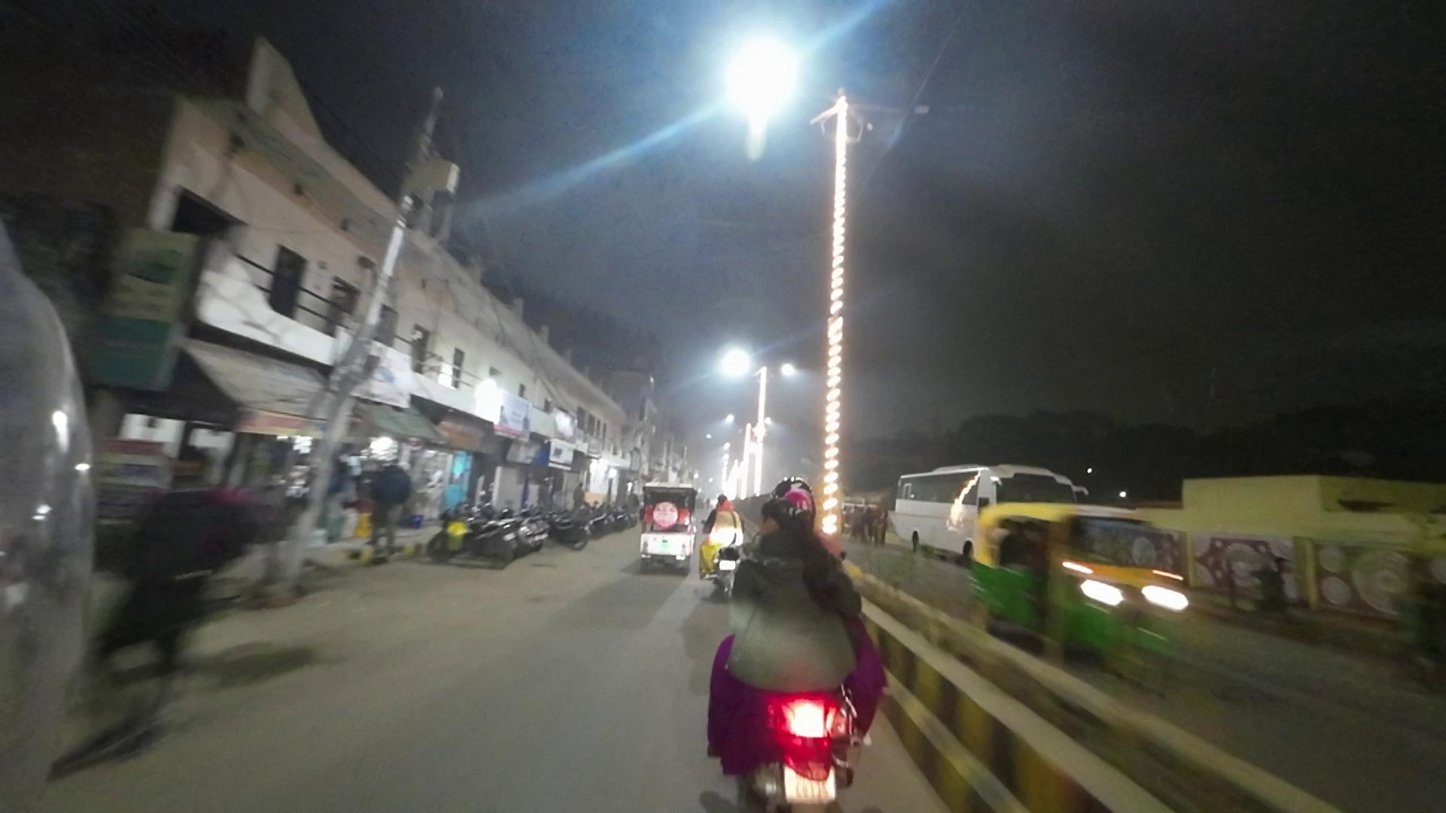streetlight: (857, 96, 935, 120)
